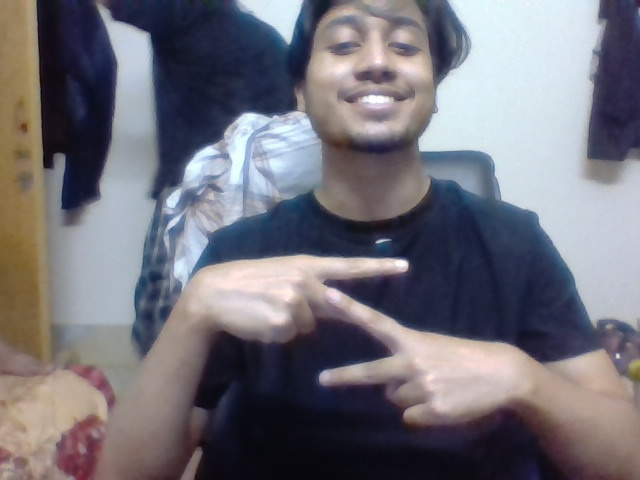Z: (316, 251, 415, 391)
